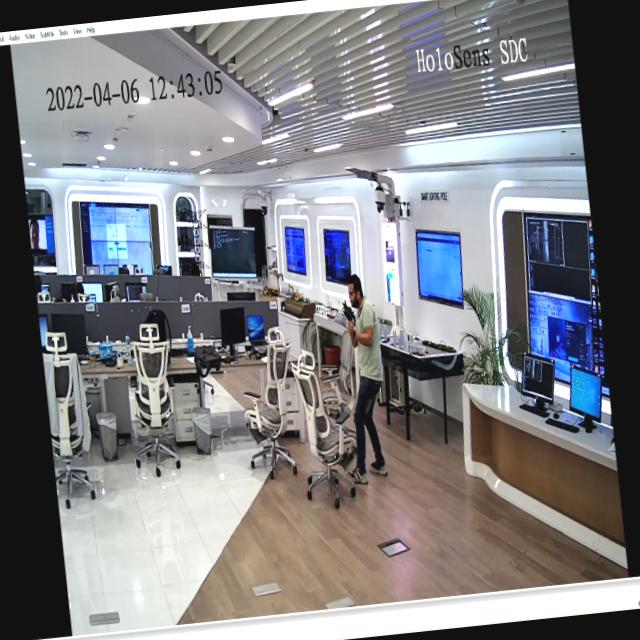long weapon: (340, 296, 358, 336)
